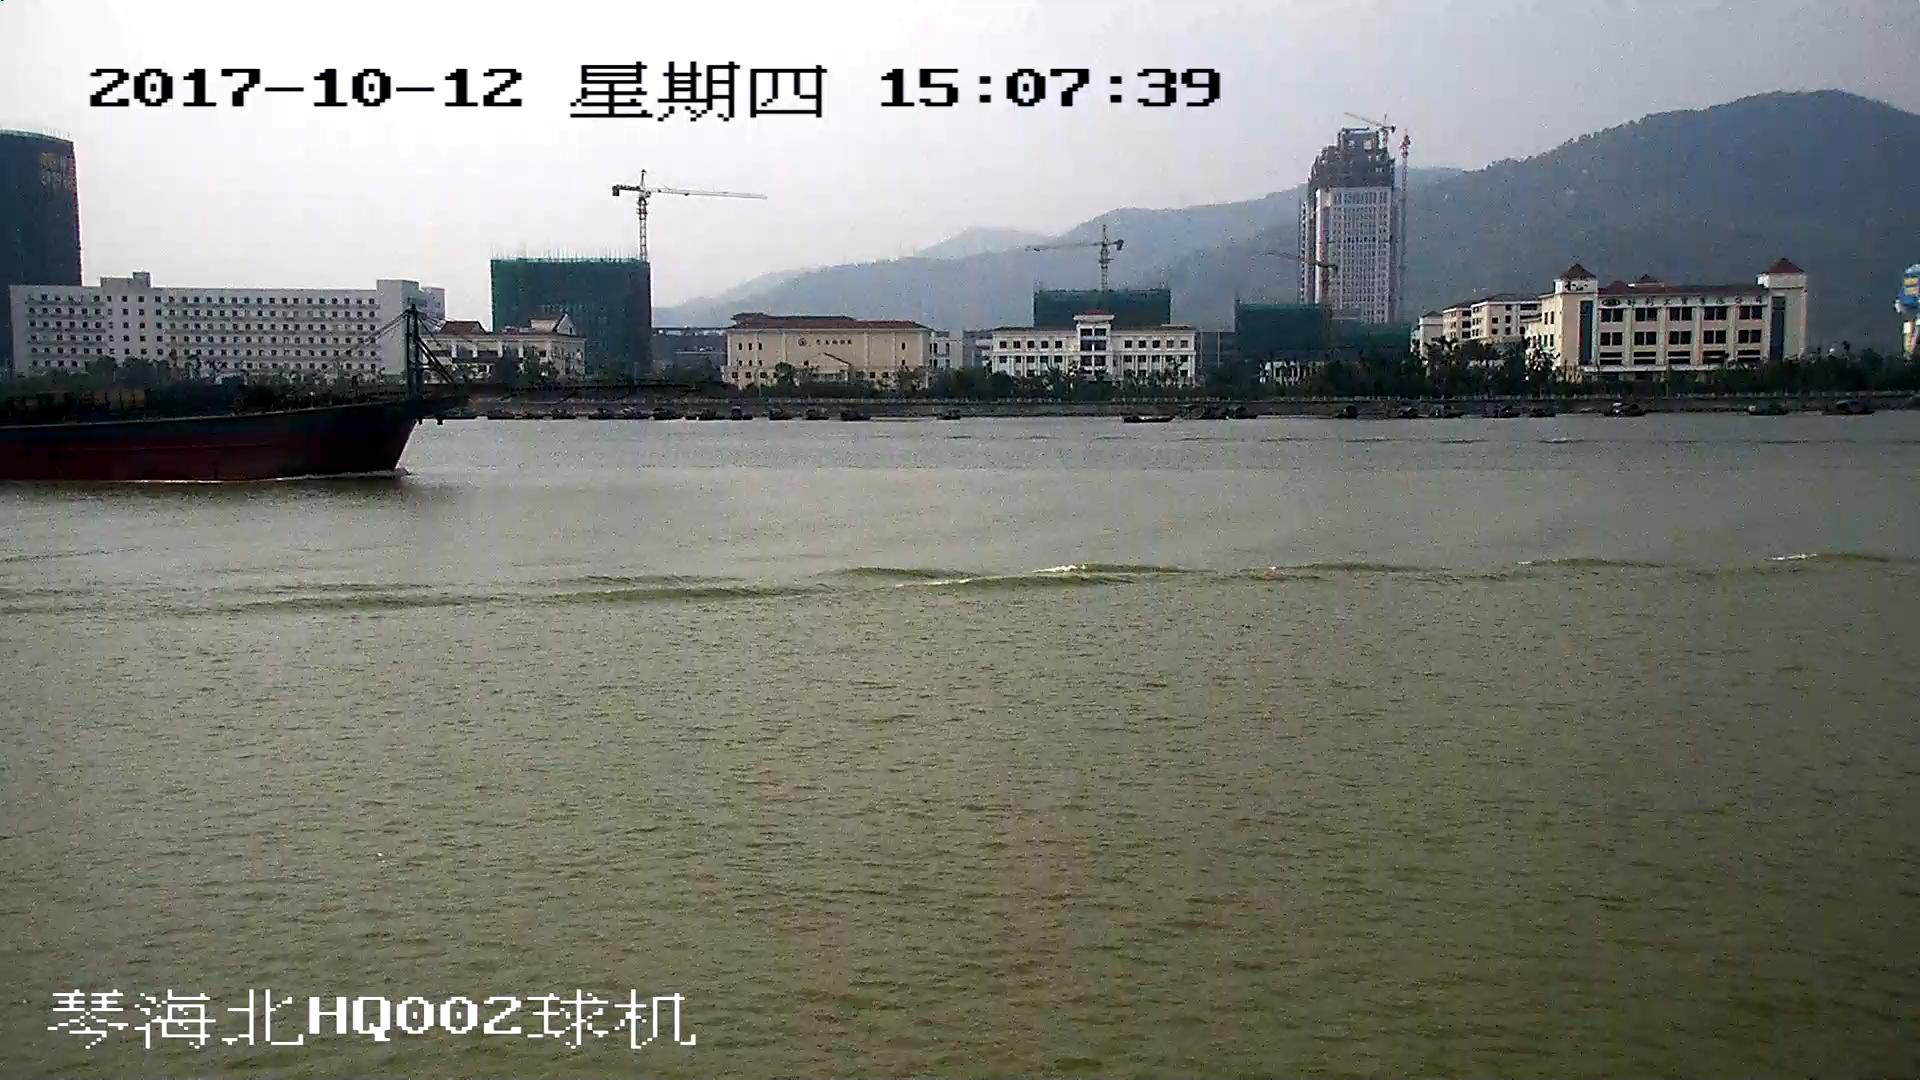bulk cargo carrier: (1, 297, 667, 481)
